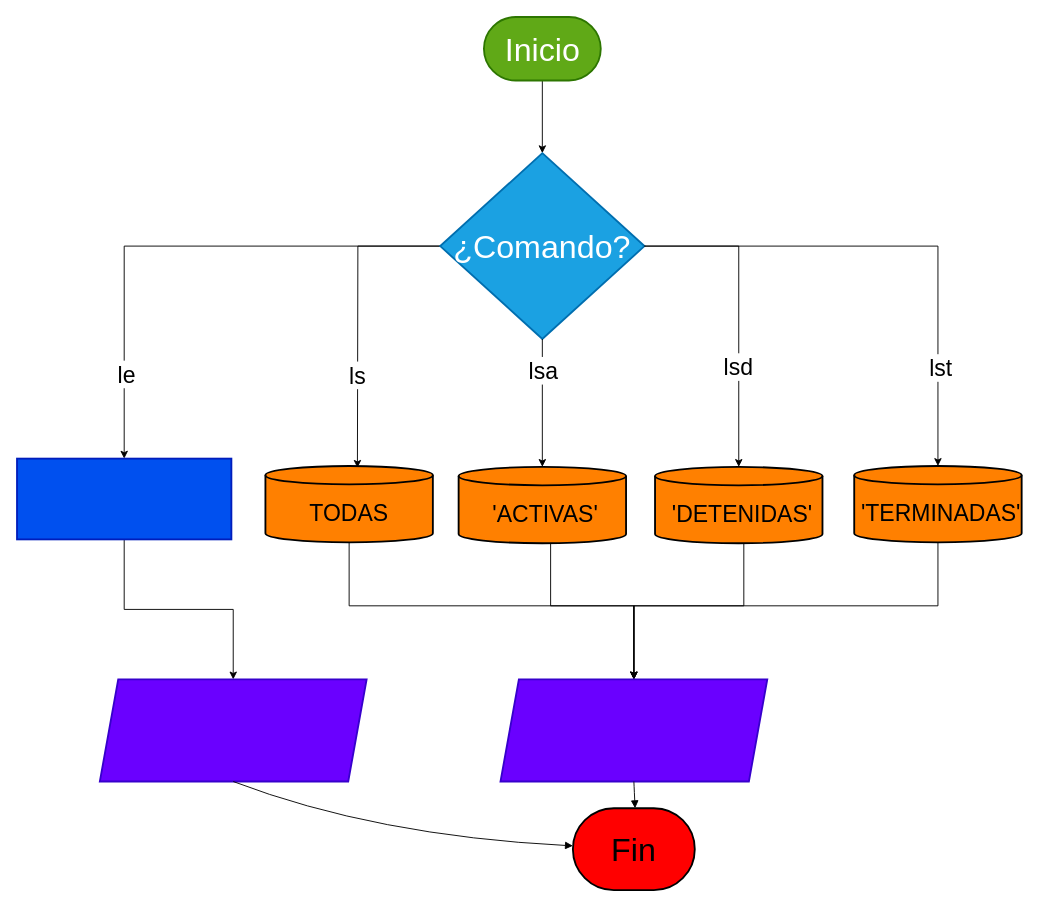
Some shapes in this 1038 by 906 pixel diagram are drawn without their labels. The centre of each missing label's shape, as x and y in pixels:
Imprimir listado: (633,730)
Leer carpeta /strategies: (124,498)
Listar archivos encontrados: (232,730)
